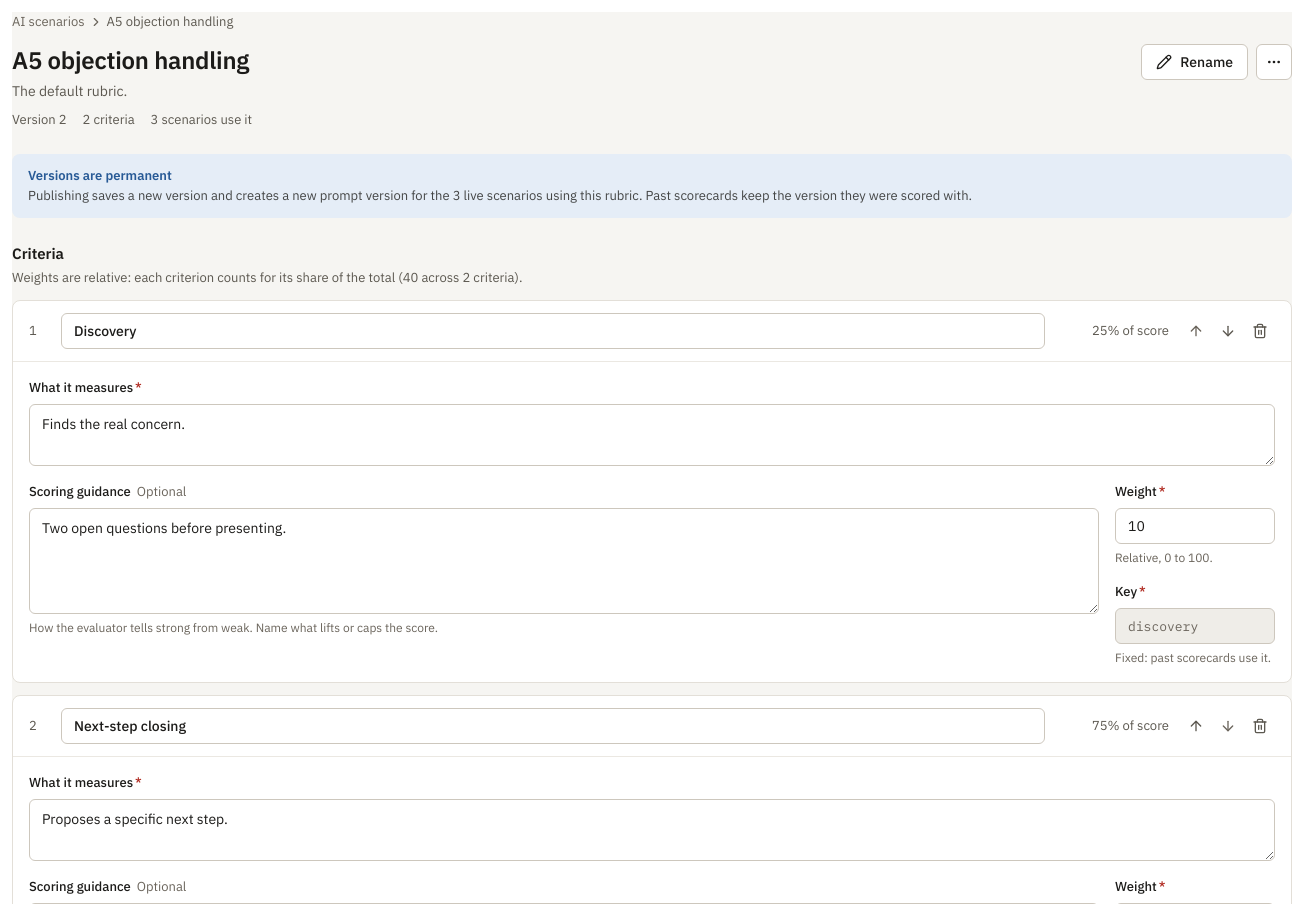
it: rubric editor › shows a server refusal in the bar
Expected: the heading "A5 objection handling" is shown, [12,44,252,76]
Replace the text in the number field labelled "Weight*" below "25% of score" with "20". click: (1195, 526)
box: [1115,508,1275,544]
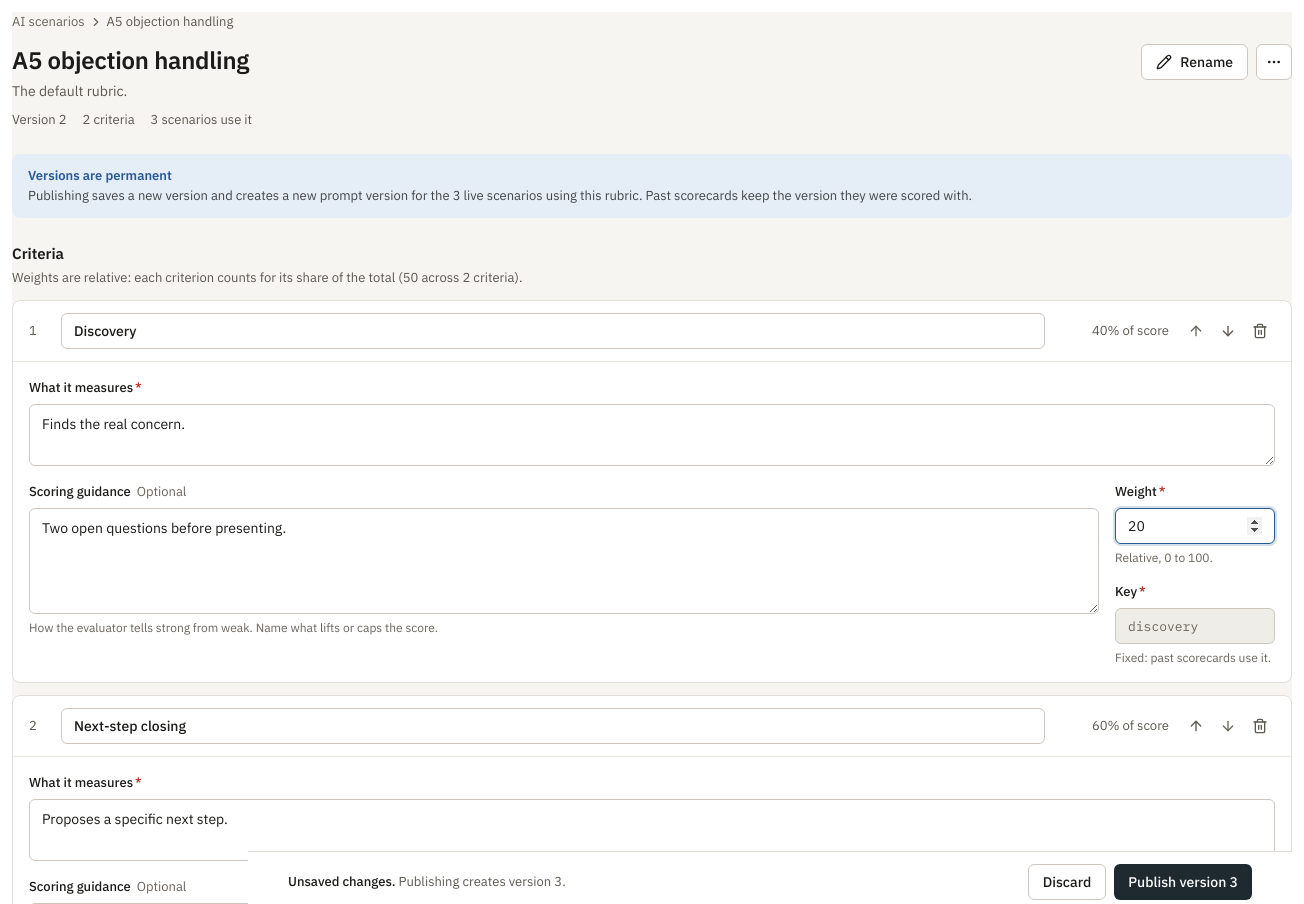
Click the button "Publish version 3". click: (1183, 882)
box: [1114,864,1252,900]
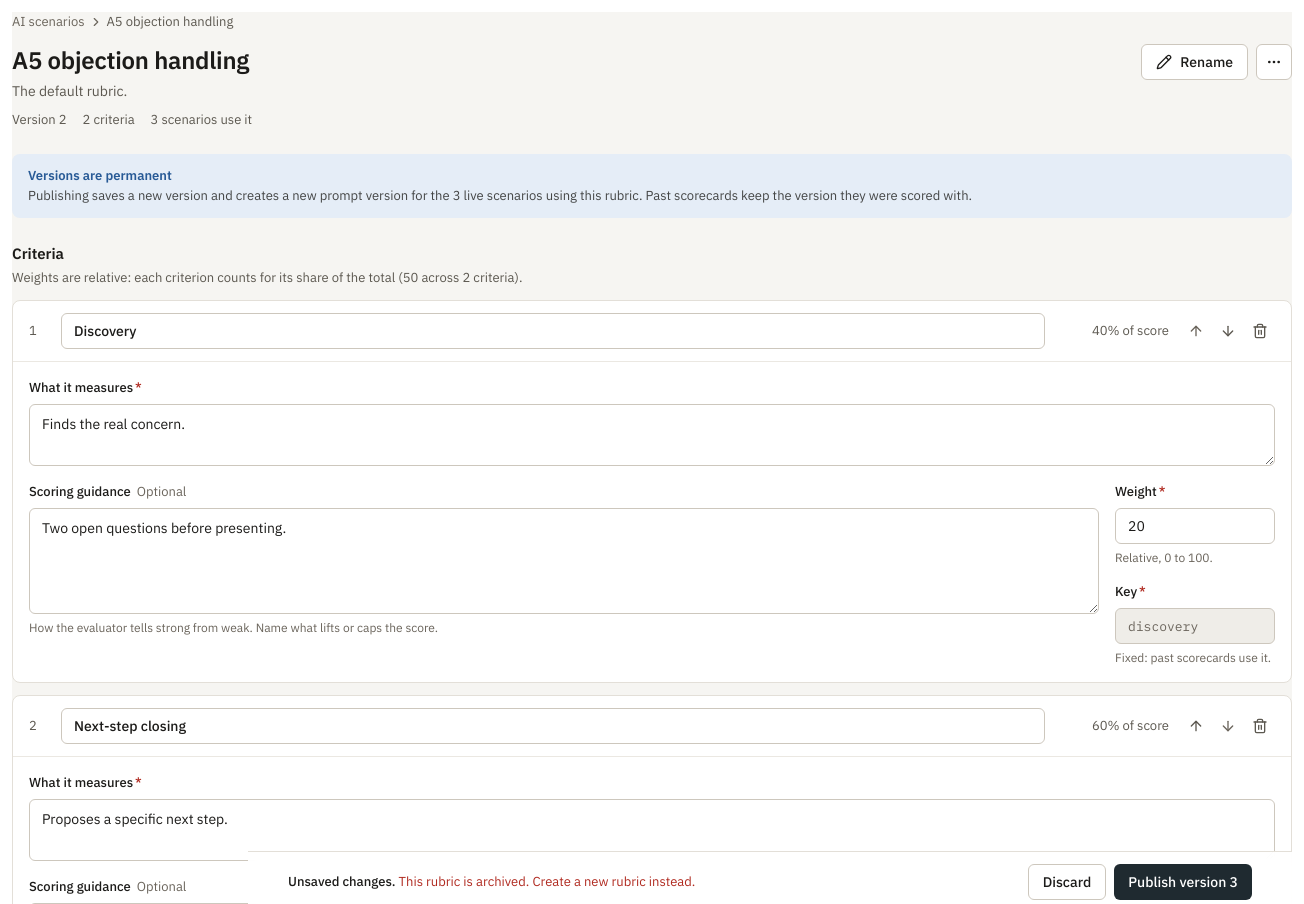
Expected: the text "This rubric is archived. Create a new rubric instead." is shown, [399,873,695,890]
